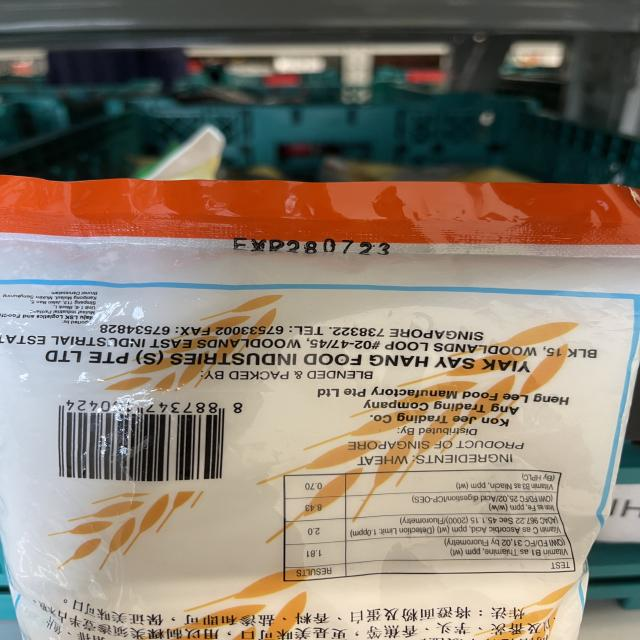object_name: (12, 181, 587, 640)
